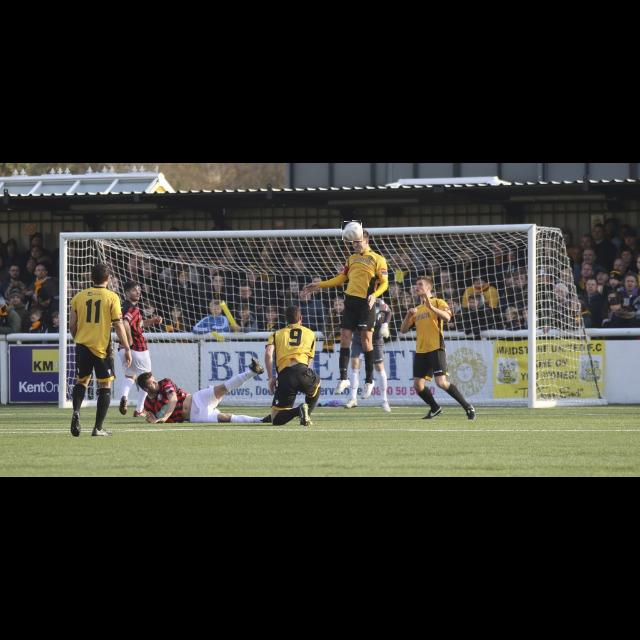Football: (342, 220, 362, 242)
